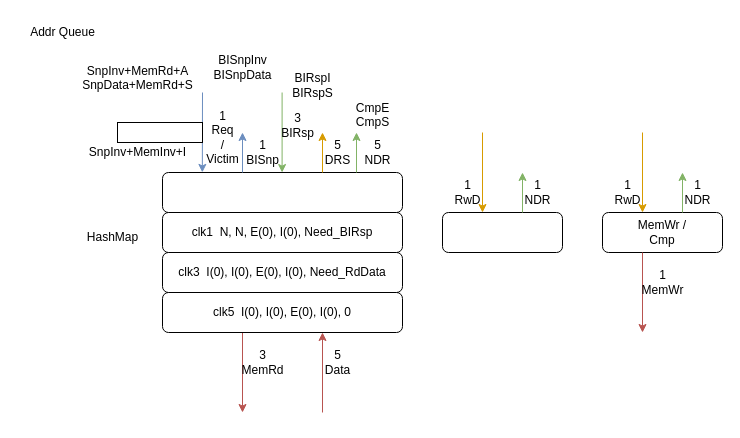
Some shapes in this 740 by 438 pixel diagram are drawn without their labels. The shapes that lost their labels are listed below. From the top down, each one's centre as x and y in pixels, then its label:
point (282, 192): clk0 S(0), S(0), I(0), I(0), 0
point (502, 232): BIConflict / BIConflictAck
